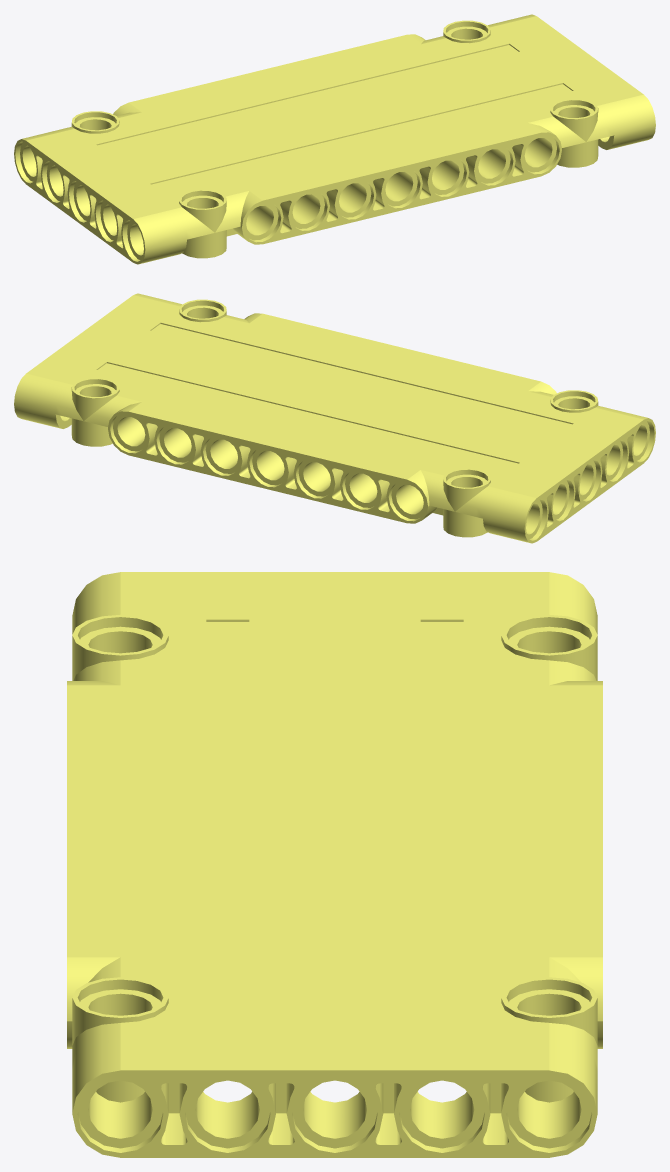
3 views of the same model, one above another, from view 1: azimuth 30°, elevation 25°; view 2: azimuth 150°, elevation 25°; view 3: azimuth 270°, elevation 25° (orthographic). The views are drawn at different scales.
Visible parts, largest first — view 1: 64782.dat; view 2: 64782.dat; view 3: 64782.dat.
Boxes of the visible parts, bbox=[...] form: 64782.dat: bbox=[14, 14, 655, 264]; 64782.dat: bbox=[14, 293, 655, 543]; 64782.dat: bbox=[67, 572, 602, 1157].
Size of the model in its own units: 0.088 by 0.008 by 0.04.
